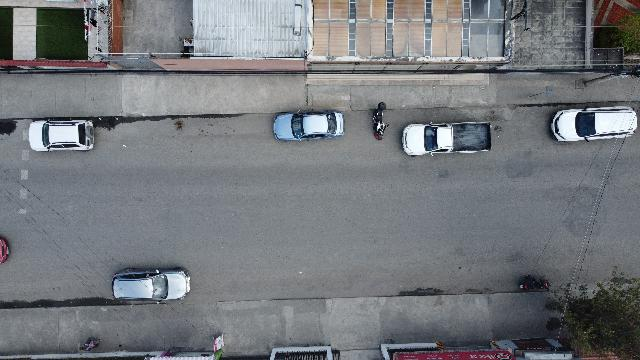Vehiculo: (551, 106, 637, 142), (402, 122, 492, 156), (111, 267, 190, 302), (273, 110, 345, 142), (28, 118, 94, 152)
